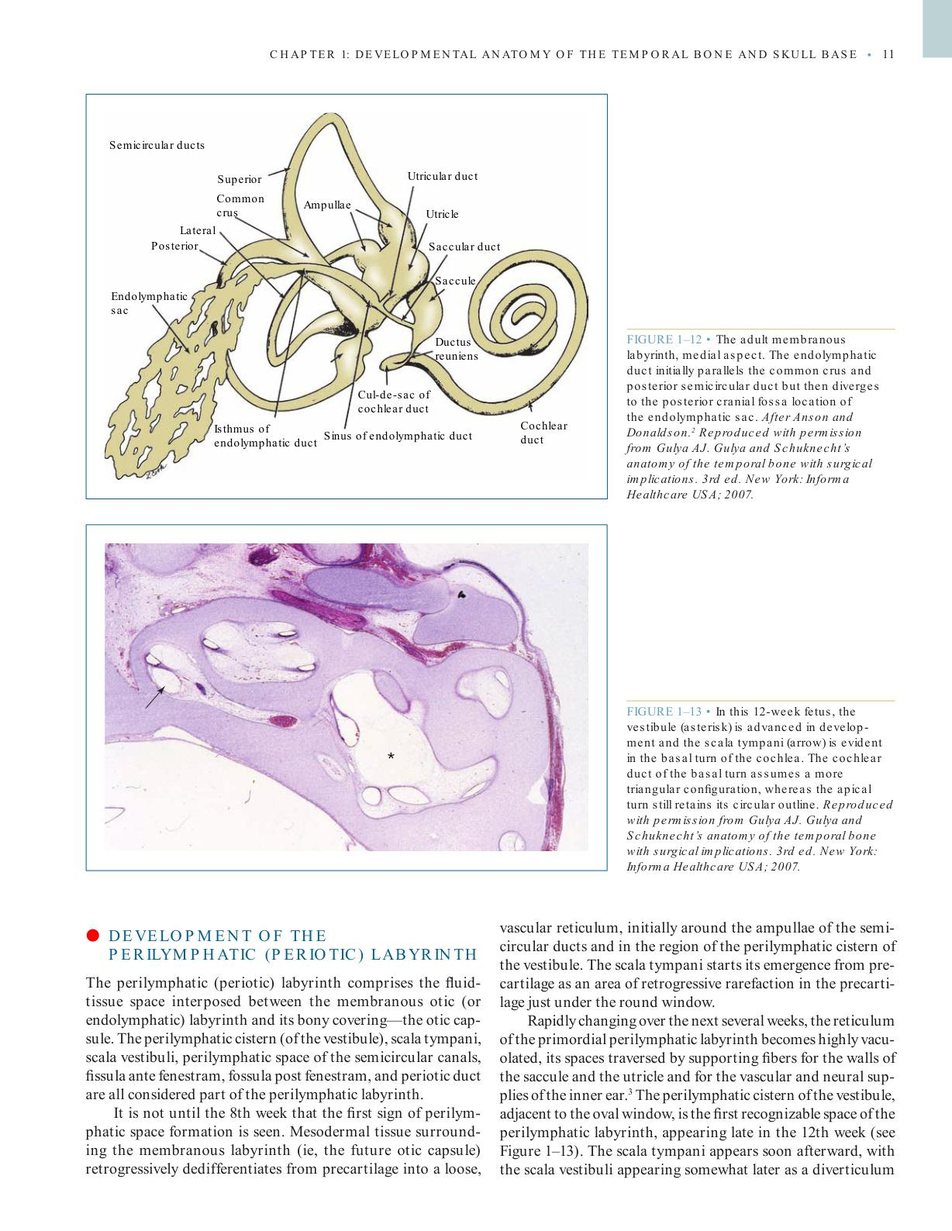caption: (623, 703, 896, 875), (624, 330, 882, 502)
header: (268, 48, 858, 60)
image: (89, 98, 604, 496), (92, 529, 600, 863)
section-heading: (107, 926, 478, 963)
text: (497, 918, 898, 1180), (83, 973, 484, 1179)
